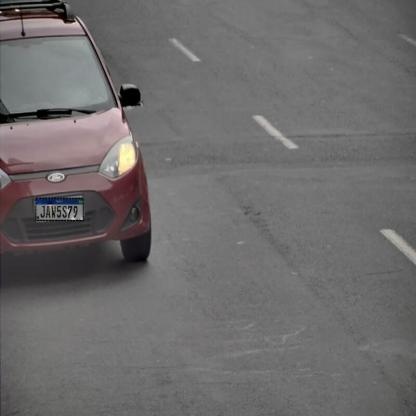PlacaM: (35, 198, 84, 221)
